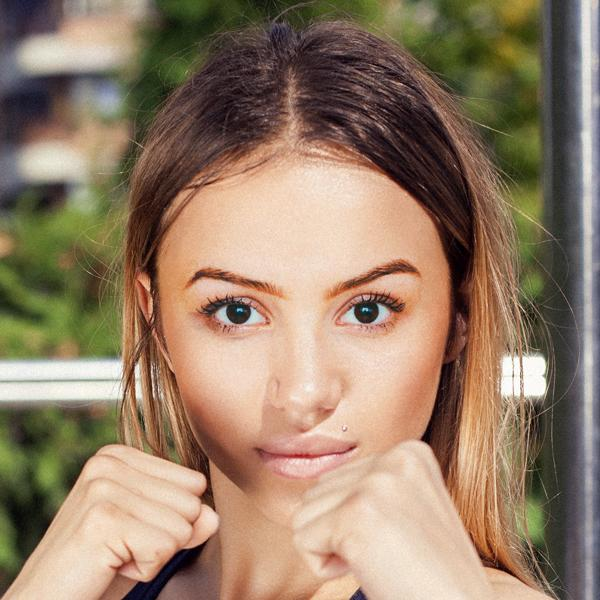Eyes: (189, 286, 280, 342), (325, 285, 410, 336)
